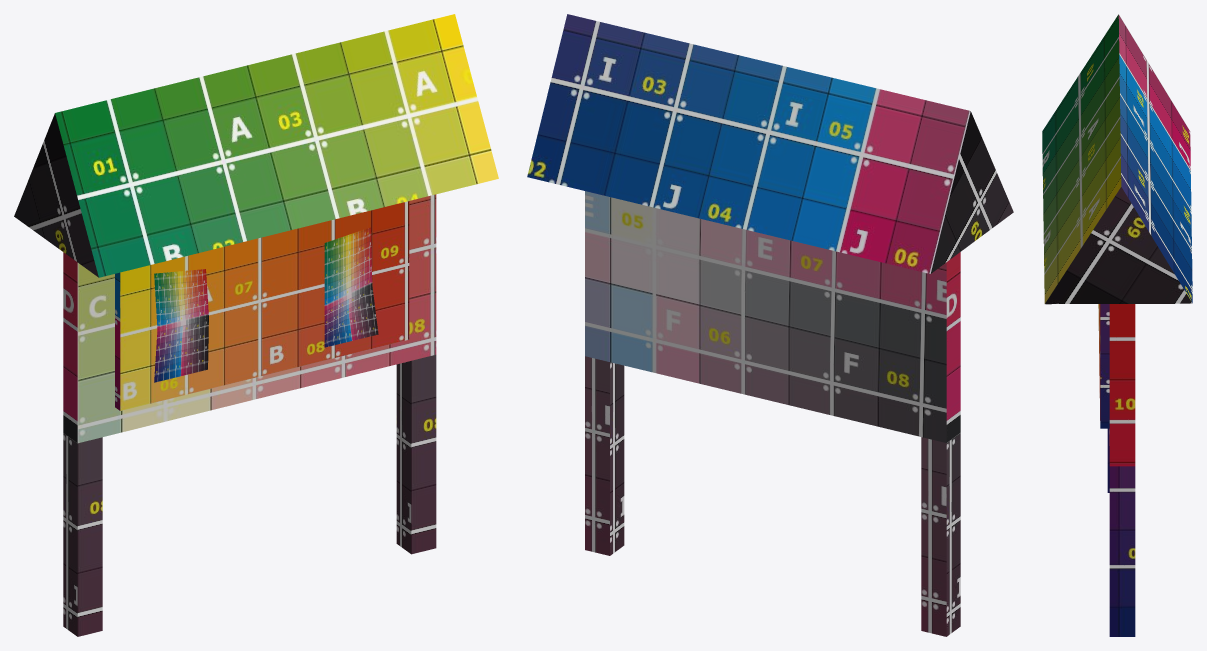
Rendered from WestPost_low.fbx.
3 views of the same model, side by side, from view 1: azimuth 30°, elevation 25°; view 2: azimuth 150°, elevation 25°; view 3: azimuth 270°, elevation 25° (orthographic). The views are drawn at different scales.
Visible parts, largest first — view 1: Roof_low, Board_low, Backboard_low, Leg_low, Poster01_low, Poster02_low; view 2: Roof_low, Backboard_low, Leg_low; view 3: Roof_low, Leg_low, Backboard_low, Board_low.
Part boxes in pixels (x1,y1,x2,y2): Roof_low: (14, 14, 498, 277); Board_low: (115, 201, 409, 410); Backboard_low: (63, 194, 436, 443); Leg_low: (63, 355, 436, 636); Poster01_low: (154, 269, 208, 382); Poster02_low: (324, 227, 378, 347); Roof_low: (527, 14, 1013, 273); Backboard_low: (585, 191, 960, 442); Leg_low: (585, 356, 960, 636); Roof_low: (1042, 14, 1192, 304); Leg_low: (1107, 428, 1135, 636); Backboard_low: (1109, 304, 1135, 466); Board_low: (1098, 304, 1109, 428).
Size of the model in its own units: 94.84 by 118 by 34.89.
Materials: 3 (3 with a texture image).
